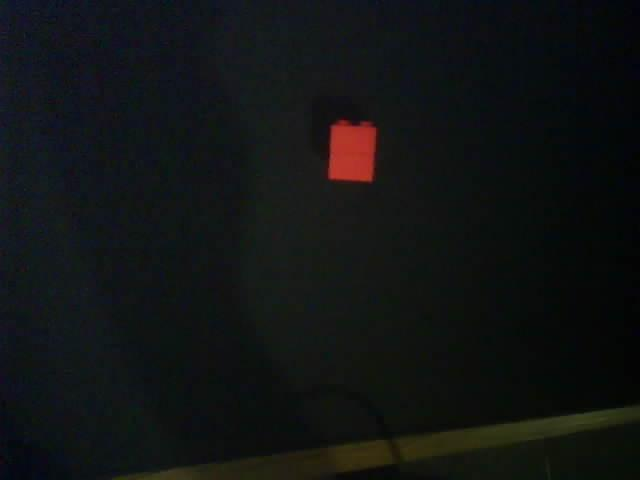lego: (326, 118, 379, 183)
